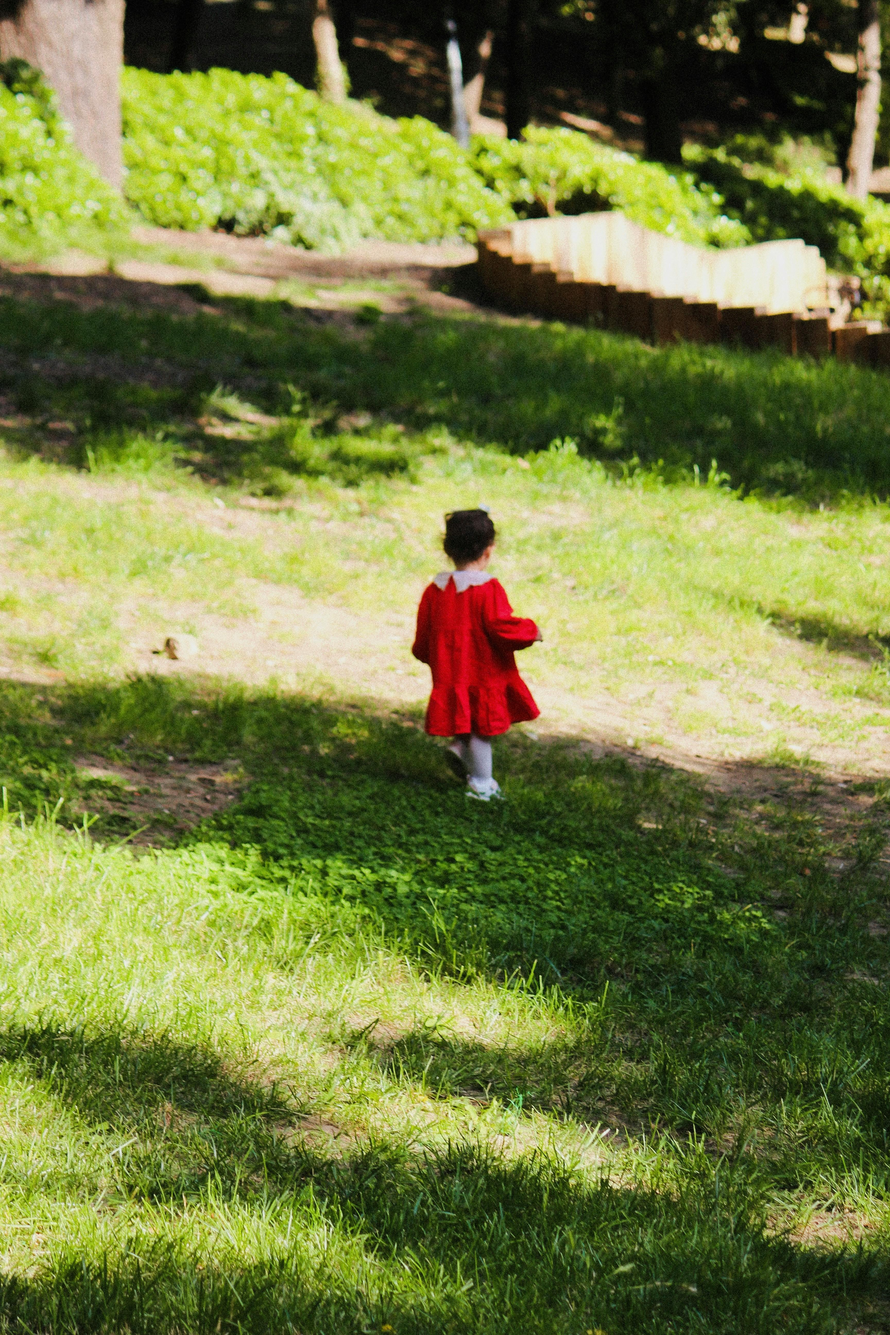Human: (364, 464, 557, 845)
